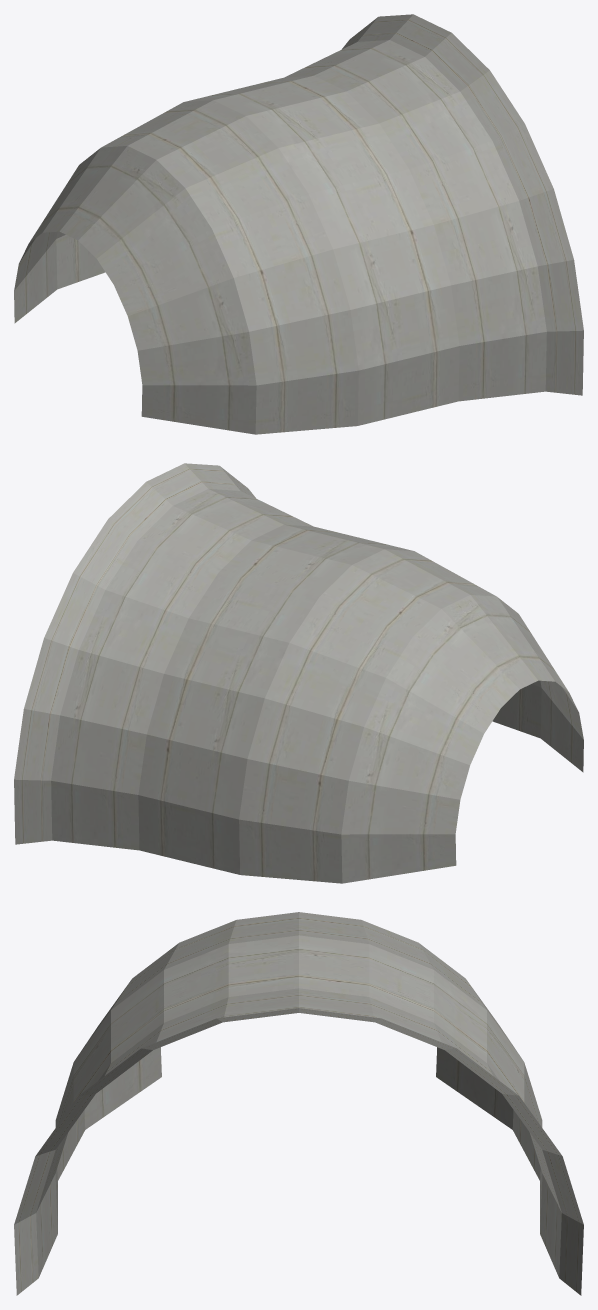
The model's file is eq_future_1_shoulder.glb.
3 views of the same model, one above another, from view 1: azimuth 30°, elevation 25°; view 2: azimuth 150°, elevation 25°; view 3: azimuth 270°, elevation 25° (orthographic). The views are drawn at different scales.
Parts seen in each view (by area): view 1: eq_future_1_shoulder; view 2: eq_future_1_shoulder; view 3: eq_future_1_shoulder.
Boxes of the visible parts, x1,y1,x2,y2 form: eq_future_1_shoulder: (14, 14, 583, 434); eq_future_1_shoulder: (14, 463, 583, 883); eq_future_1_shoulder: (14, 912, 583, 1295).
Bounding box in the file's own units: 0.167 × 0.1141 × 0.2047.
Materials: 1 (1 with a texture image).
